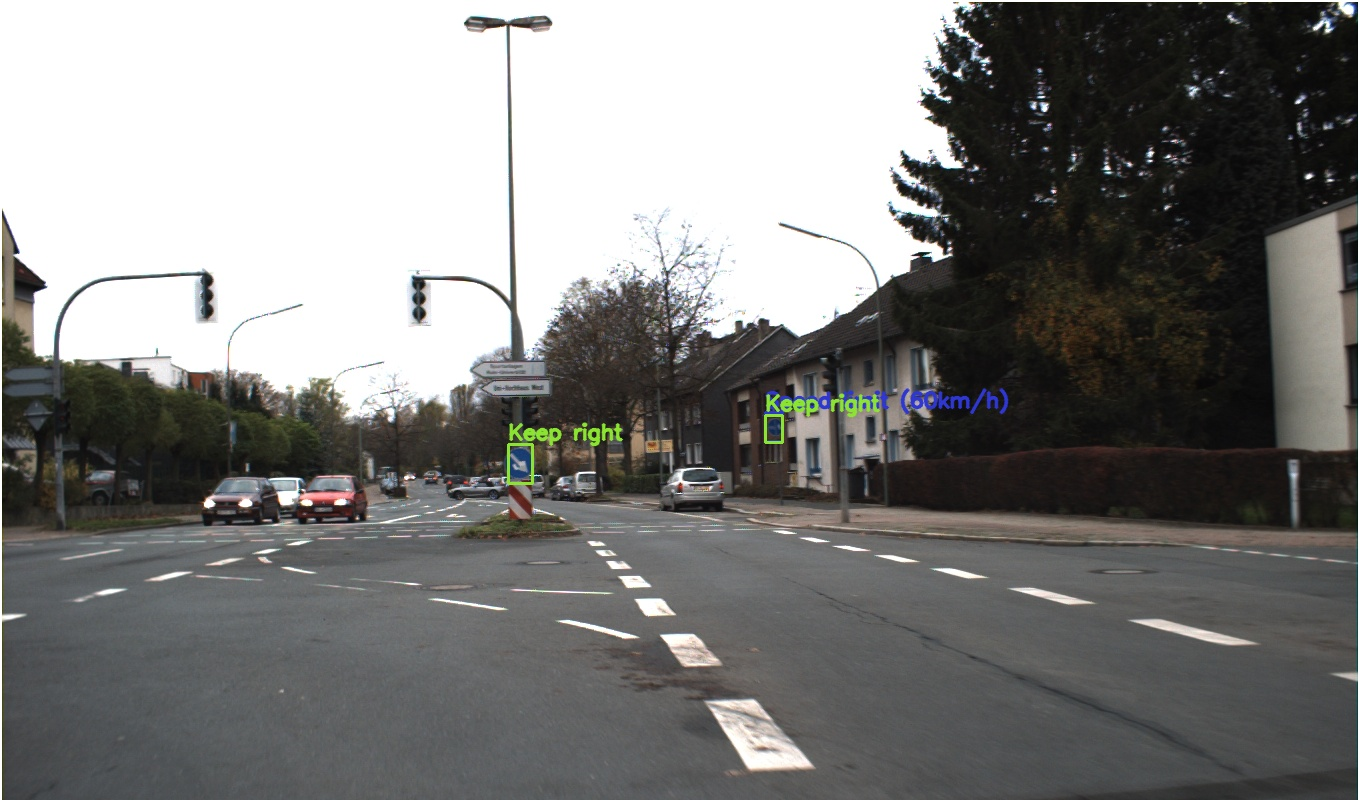Yield: (762, 352, 812, 397)
